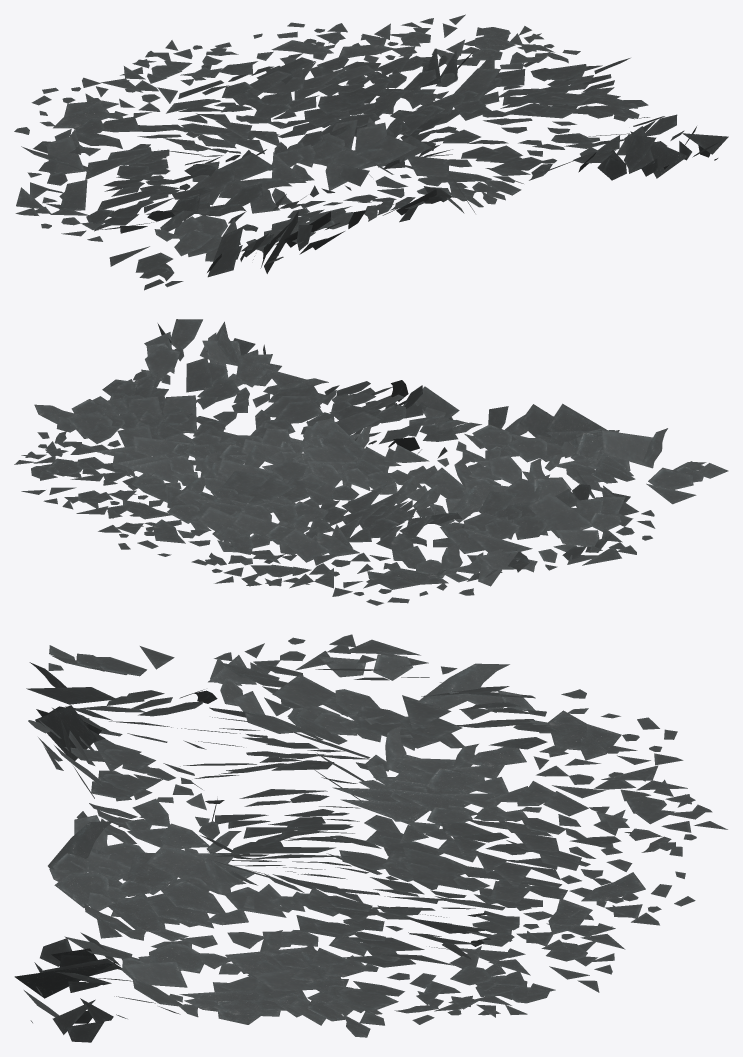
Rendered from Ice_Stacks_001.fbx.
3 views of the same model, one above another, from view 1: azimuth 30°, elevation 25°; view 2: azimuth 150°, elevation 25°; view 3: azimuth 270°, elevation 25° (orthographic). The views are drawn at different scales.
Parts seen in each view (by area): view 1: Ice_Stacks_001_LOD0; view 2: Ice_Stacks_001_LOD0; view 3: Ice_Stacks_001_LOD0.
Boxes of the visible parts, left/top/right/bottom form: Ice_Stacks_001_LOD0: left=14, top=14, right=728, bottom=290; Ice_Stacks_001_LOD0: left=14, top=319, right=728, bottom=605; Ice_Stacks_001_LOD0: left=14, top=634, right=727, bottom=1042.
Size of what is drawn, in the model's own units: 40.8 by 3.64 by 30.17.
